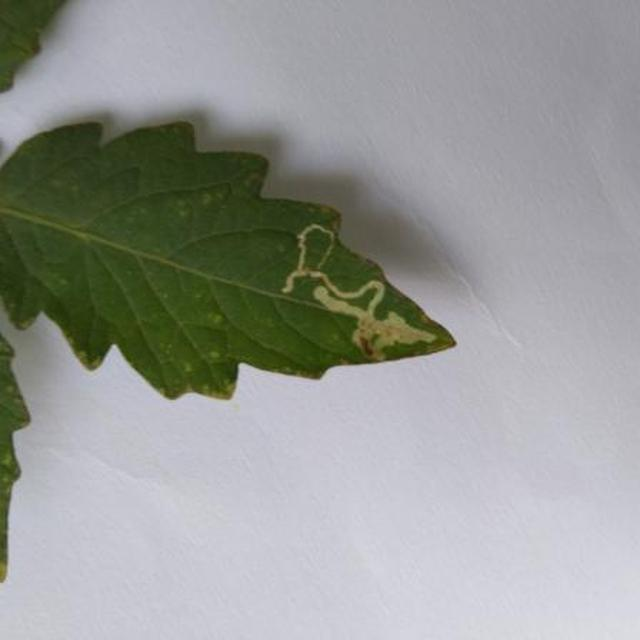Leaf Miner: (10, 170, 640, 577)
